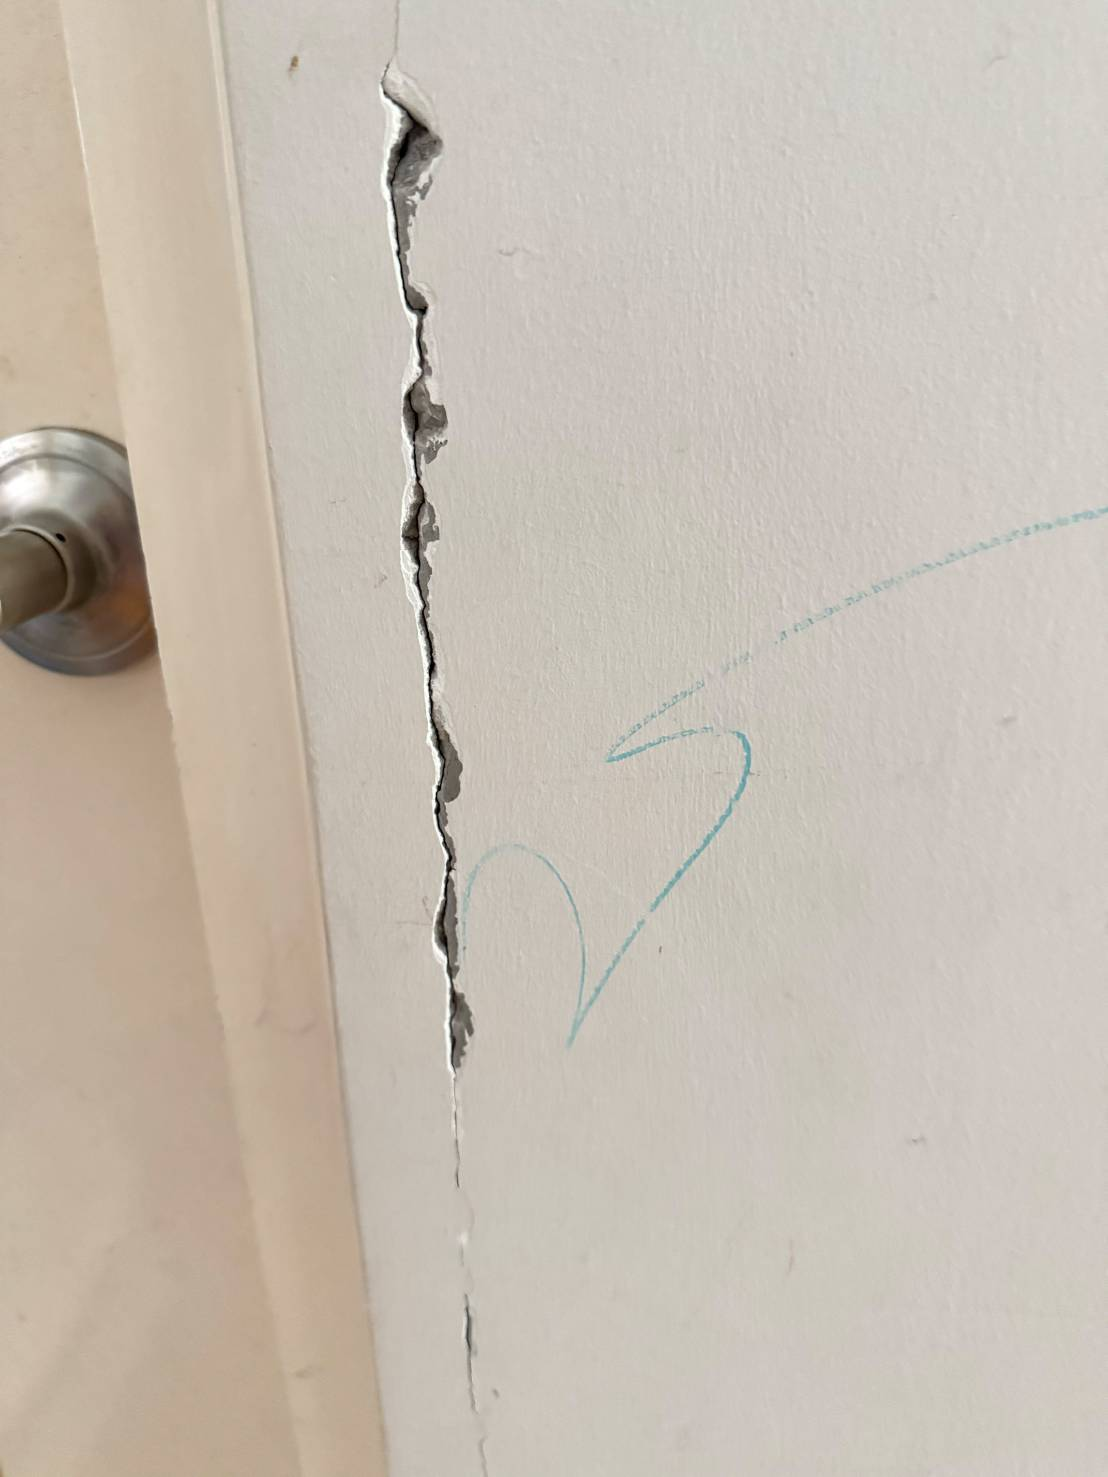Low: (296, 1, 518, 1475)
